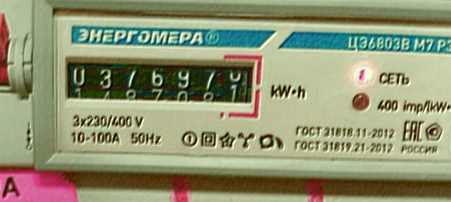0: (69, 63, 83, 85)
1: (226, 82, 237, 102)
3: (97, 67, 111, 88)
6: (148, 63, 163, 87)
7: (122, 64, 137, 88), (200, 67, 215, 90)
9: (174, 66, 188, 88)
screen: (55, 43, 264, 120)
